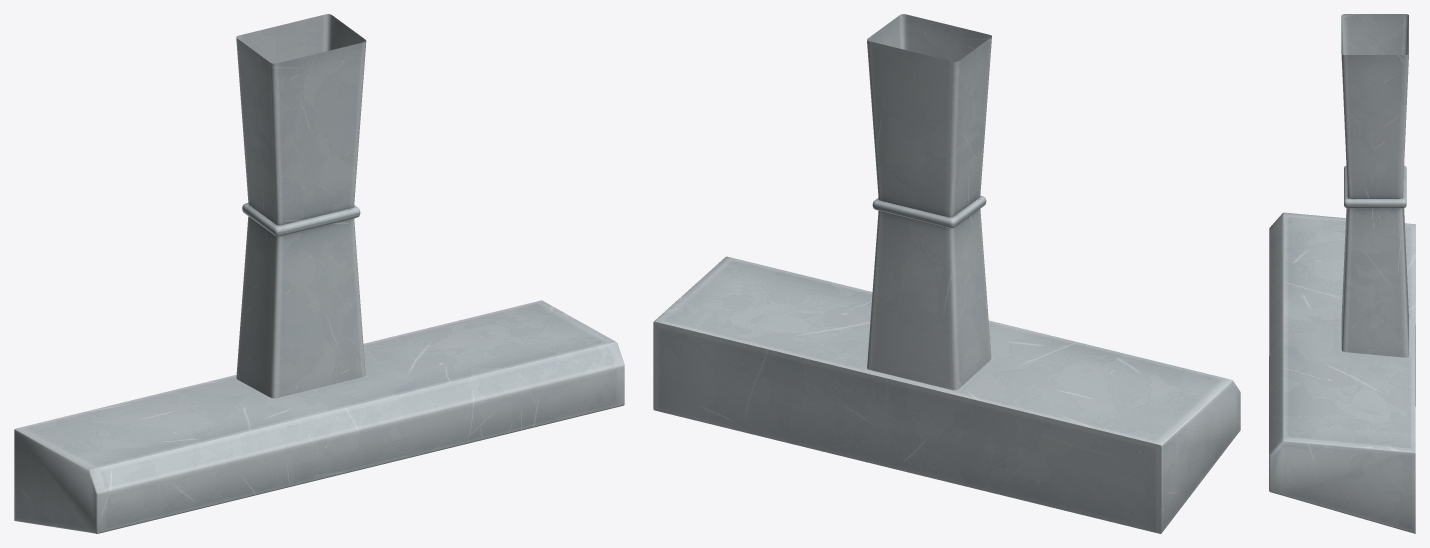
The model's file is CommKitchenHood01.FBX.
The picture shows the model from 3 angles, left to right: view 1: azimuth 30°, elevation 25°; view 2: azimuth 150°, elevation 25°; view 3: azimuth 270°, elevation 25°; orthographic projection. The views are drawn at different scales.
Visible parts, largest first — view 1: CommKitchenHood01; view 2: CommKitchenHood01; view 3: CommKitchenHood01.
Part boxes in pixels (left/top/right/bottom): CommKitchenHood01: left=14, top=14, right=624, bottom=533; CommKitchenHood01: left=653, top=14, right=1240, bottom=533; CommKitchenHood01: left=1269, top=14, right=1415, bottom=533.
Size of what is drawn, in the model's own units: 2 by 1.57 by 0.5427.
